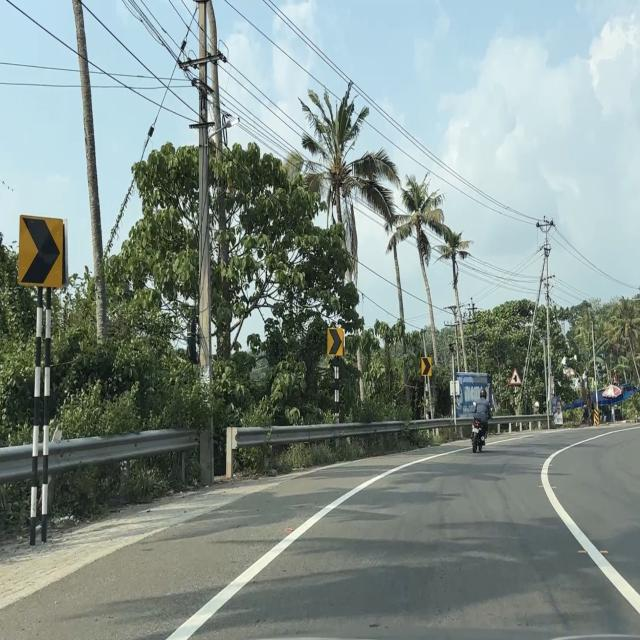SIDE_ROAD_LEFT: (509, 367, 522, 386)
TURN_RIGHT: (18, 213, 64, 289), (327, 328, 344, 356), (421, 356, 432, 376)
